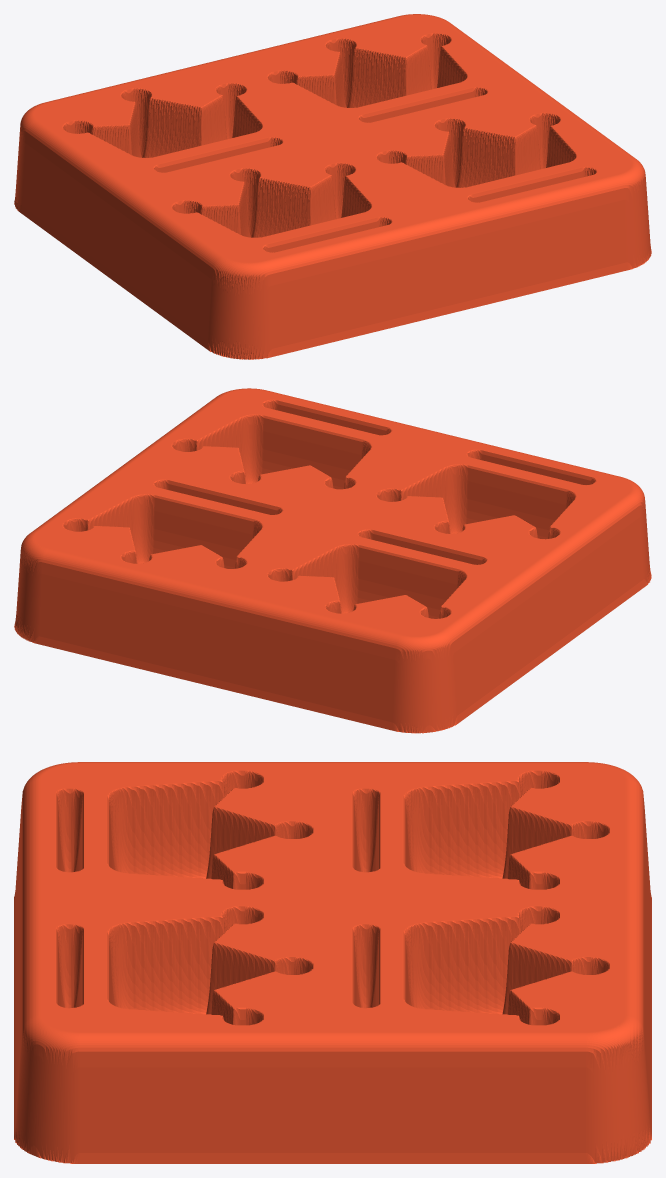
The model's file is mold.glb.
3 renders of one model, top to bottom at view 1: azimuth 30°, elevation 25°; view 2: azimuth 150°, elevation 25°; view 3: azimuth 270°, elevation 25°, orthographic. The views are drawn at different scales.
Parts seen in each view (by area): view 1: geometry_0; view 2: geometry_0; view 3: geometry_0.
Boxes of the visible parts, x1,y1,x2,y2 form: geometry_0: (14,14,651,359); geometry_0: (14,388,651,733); geometry_0: (14,762,651,1163).
Bounding box in the file's own units: 0.0942 × 0.0182 × 0.0874.
